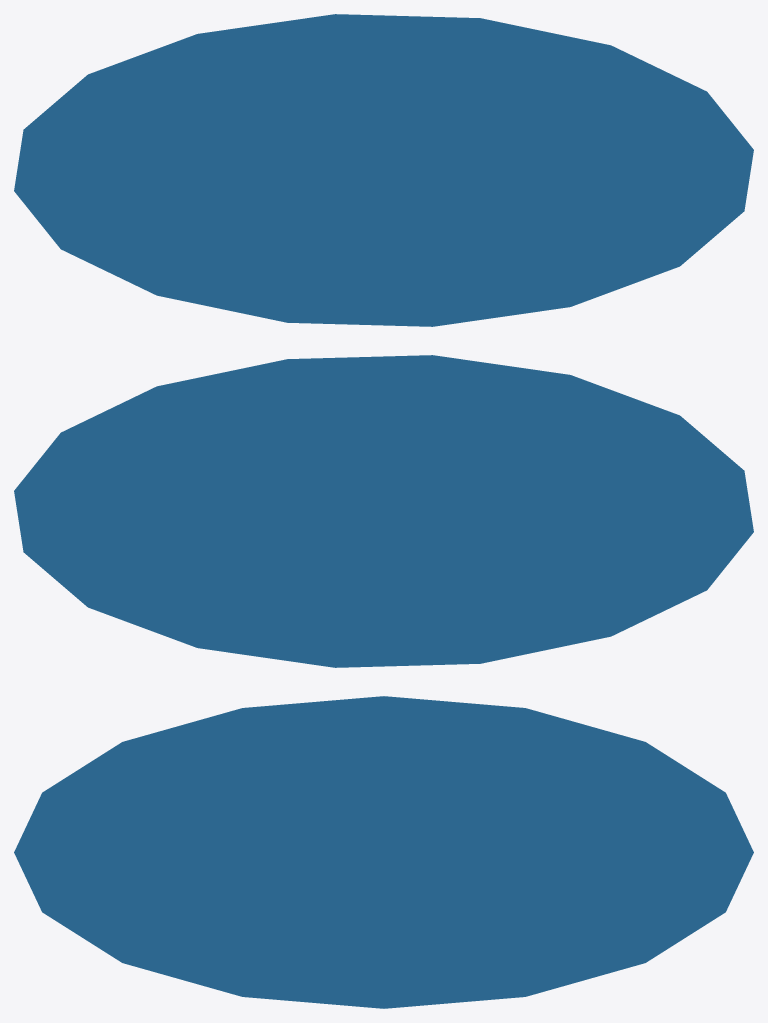
Rendered from Pond_0.fbx.
The picture shows the model from 3 angles, top to bottom: view 1: azimuth 30°, elevation 25°; view 2: azimuth 150°, elevation 25°; view 3: azimuth 270°, elevation 25°; orthographic projection.
Parts seen in each view (by area): view 1: Pond; view 2: Pond; view 3: Pond.
Boxes of the visible parts, left/top/right/bottom form: Pond: left=14, top=14, right=753, bottom=326; Pond: left=14, top=355, right=753, bottom=667; Pond: left=14, top=696, right=753, bottom=1008.
Bounding box in the file's own units: 185 × 6.33e-05 × 185.
